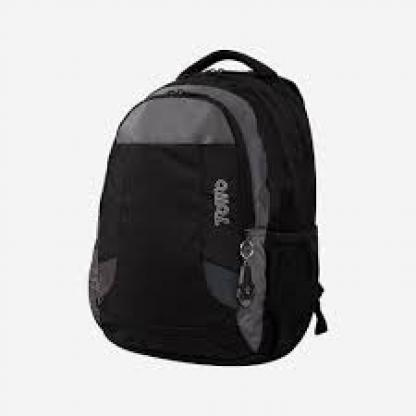morral: (87, 26, 342, 370)
